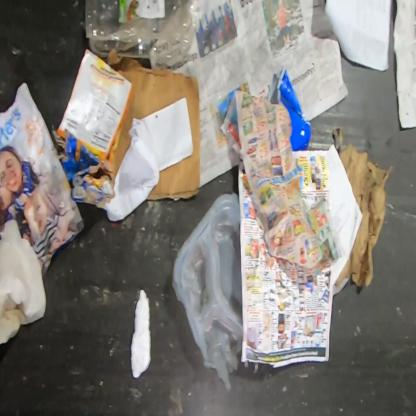cardboard: (100, 47, 202, 202), (331, 128, 393, 292), (55, 47, 132, 164), (51, 128, 116, 209)
rigid_plastic: (172, 192, 245, 392), (84, 0, 199, 68), (266, 65, 312, 152)
